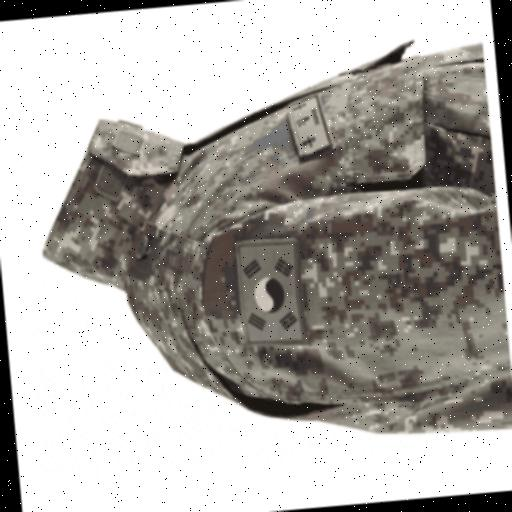korea army: (24, 35, 512, 470)
